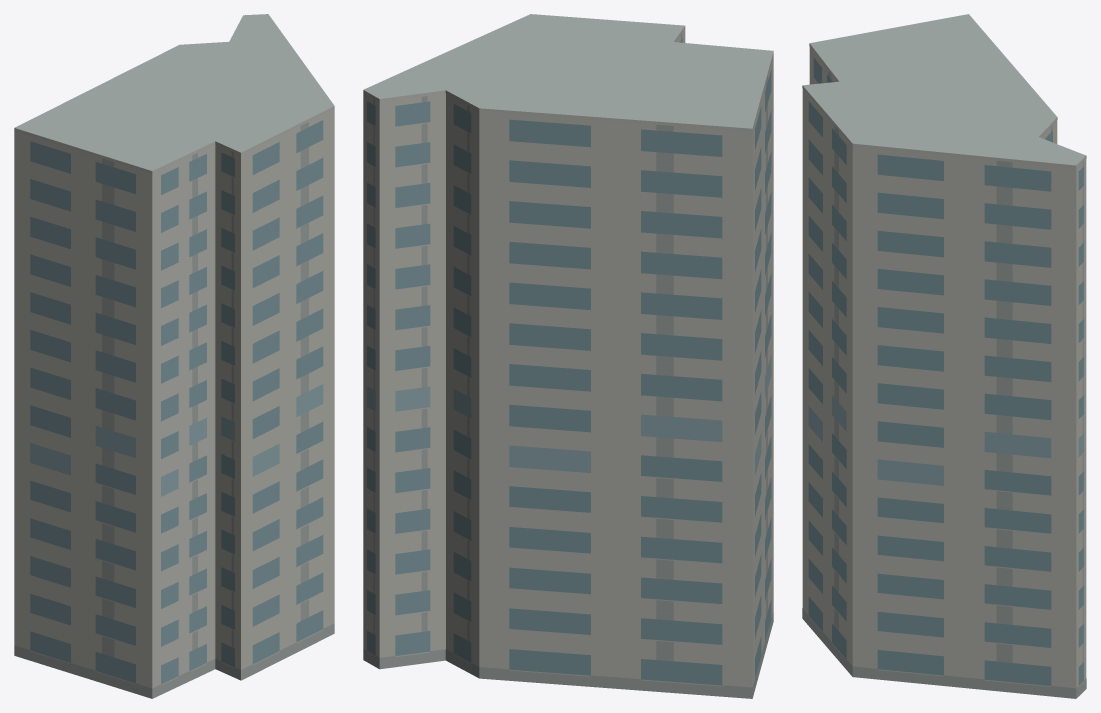
Rendered from residential-107c8298-55ed-4035-9417-a4a22f0a0b89.glb.
3 views of the same model, side by side, from view 1: azimuth 30°, elevation 25°; view 2: azimuth 150°, elevation 25°; view 3: azimuth 270°, elevation 25° (orthographic). The views are drawn at different scales.
Visible parts, largest first — view 1: residential-107c8298-55ed-4035-9417-a4a22f0a0b89.tmp; view 2: residential-107c8298-55ed-4035-9417-a4a22f0a0b89.tmp; view 3: residential-107c8298-55ed-4035-9417-a4a22f0a0b89.tmp.
Part boxes in pixels (x1,y1,x2,y2): residential-107c8298-55ed-4035-9417-a4a22f0a0b89.tmp: [14, 14, 334, 698]; residential-107c8298-55ed-4035-9417-a4a22f0a0b89.tmp: [363, 14, 773, 698]; residential-107c8298-55ed-4035-9417-a4a22f0a0b89.tmp: [802, 14, 1086, 698].
Bounding box in the file's own units: 26.2 × 43 × 20.75.
